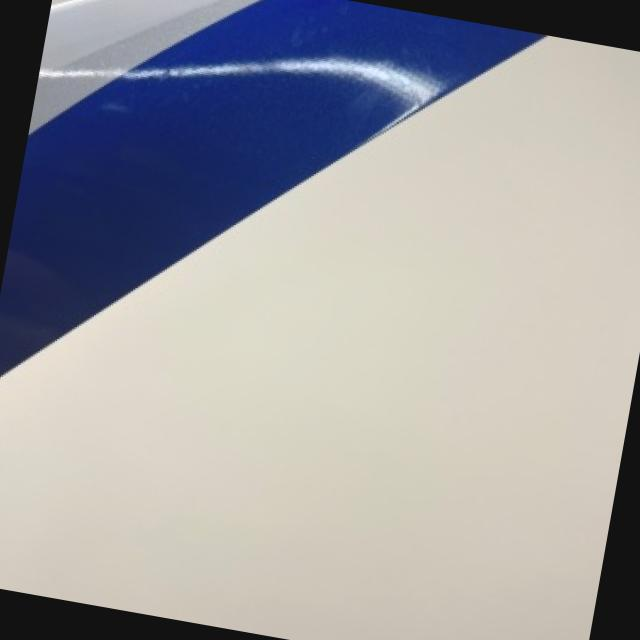healthy: (0, 35, 640, 640), (0, 0, 542, 373)
